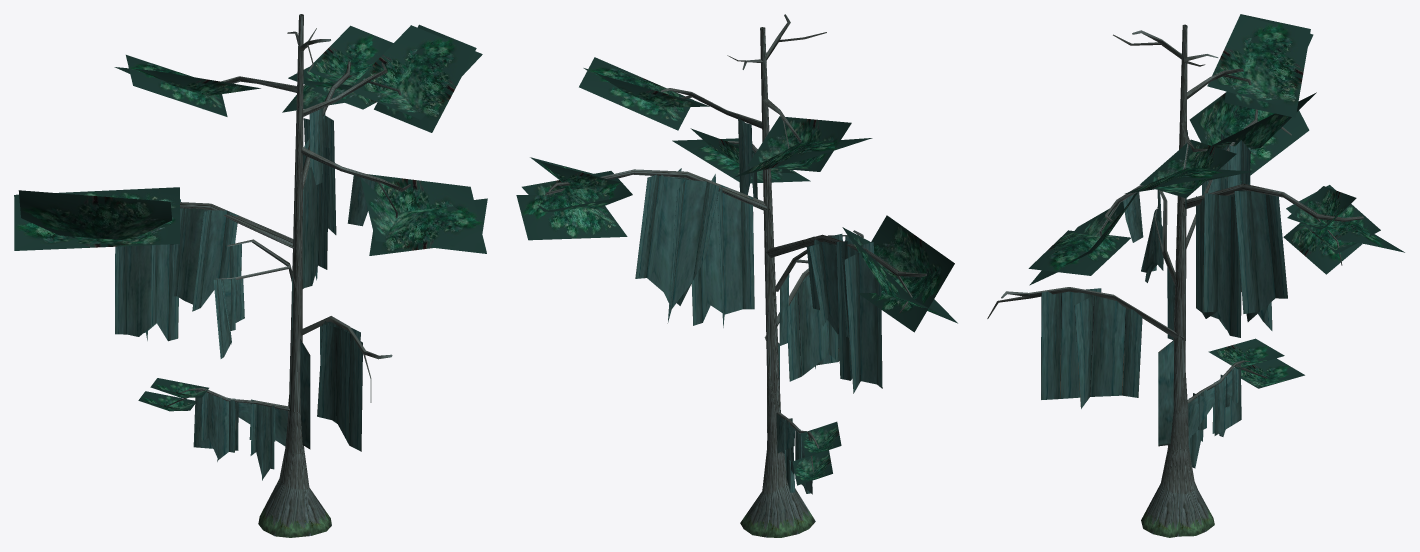
File: swamp_tree_a.fbx
3 views of the same model, side by side, from view 1: azimuth 30°, elevation 25°; view 2: azimuth 150°, elevation 25°; view 3: azimuth 270°, elevation 25° (orthographic).
Visible parts, largest first — view 1: trunk1, leaves_15, moss_3, moss_4, leaves_21, moss_11, leaves_20.002, leaves_16.001, leaves_21.002, leaves_20, moss_13, leaves_19 (+18 smaller); view 2: moss_10, trunk1, moss_13, moss_3, leaves_15, leaves_17, moss_11, leaves_21, leaves_20.001, moss_4, leaves_21.002, leaves_16.001 (+13 smaller); view 3: moss_11, trunk1, moss_13, moss_10, leaves_21.001, leaves_15, leaves_21.002, leaves_20.001, leaves_20, leaves_16, moss_2, moss_8 (+16 smaller).
Boxes of the visible parts, bbox=[...] form: trunk1: bbox=[258, 14, 331, 537]; leaves_15: bbox=[18, 190, 173, 244]; moss_3: bbox=[115, 199, 180, 341]; moss_4: bbox=[172, 208, 238, 311]; leaves_21: bbox=[374, 24, 476, 132]; moss_11: bbox=[317, 321, 362, 451]; leaves_20.002: bbox=[360, 174, 486, 253]; leaves_16.001: bbox=[14, 187, 179, 250]; leaves_21.002: bbox=[369, 198, 487, 255]; leaves_20: bbox=[351, 25, 482, 119]; moss_13: bbox=[302, 147, 329, 288]; leaves_19: bbox=[306, 25, 393, 87]; moss_10: bbox=[635, 168, 719, 323]; trunk1: bbox=[740, 27, 815, 537]; moss_13: bbox=[691, 174, 754, 327]; moss_3: bbox=[836, 241, 882, 393]; leaves_15: bbox=[858, 215, 954, 332]; leaves_17: bbox=[516, 195, 627, 240]; moss_11: bbox=[788, 274, 839, 381]; leaves_21: bbox=[579, 57, 693, 130]; leaves_20.001: bbox=[747, 116, 851, 171]; moss_4: bbox=[806, 234, 848, 337]; leaves_21.002: bbox=[672, 138, 810, 183]; leaves_16.001: bbox=[842, 227, 957, 323]; moss_11: bbox=[1041, 288, 1142, 408]; trunk1: bbox=[1141, 24, 1214, 537]; moss_13: bbox=[1196, 190, 1241, 337]; moss_10: bbox=[1226, 188, 1287, 330]; leaves_21.001: bbox=[1224, 14, 1310, 117]; leaves_15: bbox=[1189, 92, 1309, 183]; leaves_21.002: bbox=[1028, 230, 1131, 275]; leaves_20.001: bbox=[1207, 15, 1313, 106]; leaves_20: bbox=[1140, 139, 1236, 198]; leaves_16: bbox=[1283, 219, 1362, 274]; moss_2: bbox=[1187, 363, 1241, 440]; moss_8: bbox=[1158, 340, 1173, 446].
Size of the model in its own units: 15100 by 17069 by 12902.
2 materials, 2 textured.
